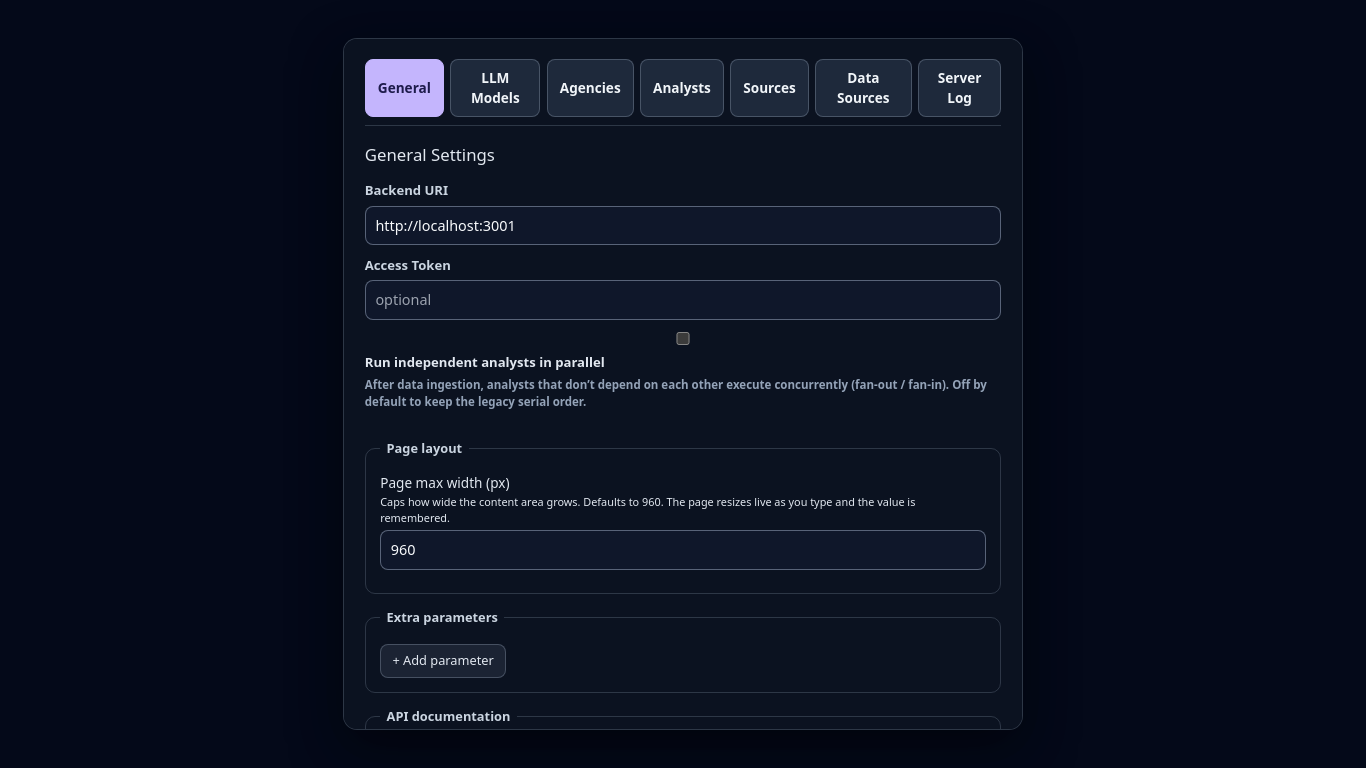
Test case: SettingsDialog › shows a validation error for a non-http baseUri
Step 1. Type "ftp://nope" into the field labelled "Backend URI" → (683, 225), box x1=365 y1=206 x2=1001 y2=245
(page scrolled)
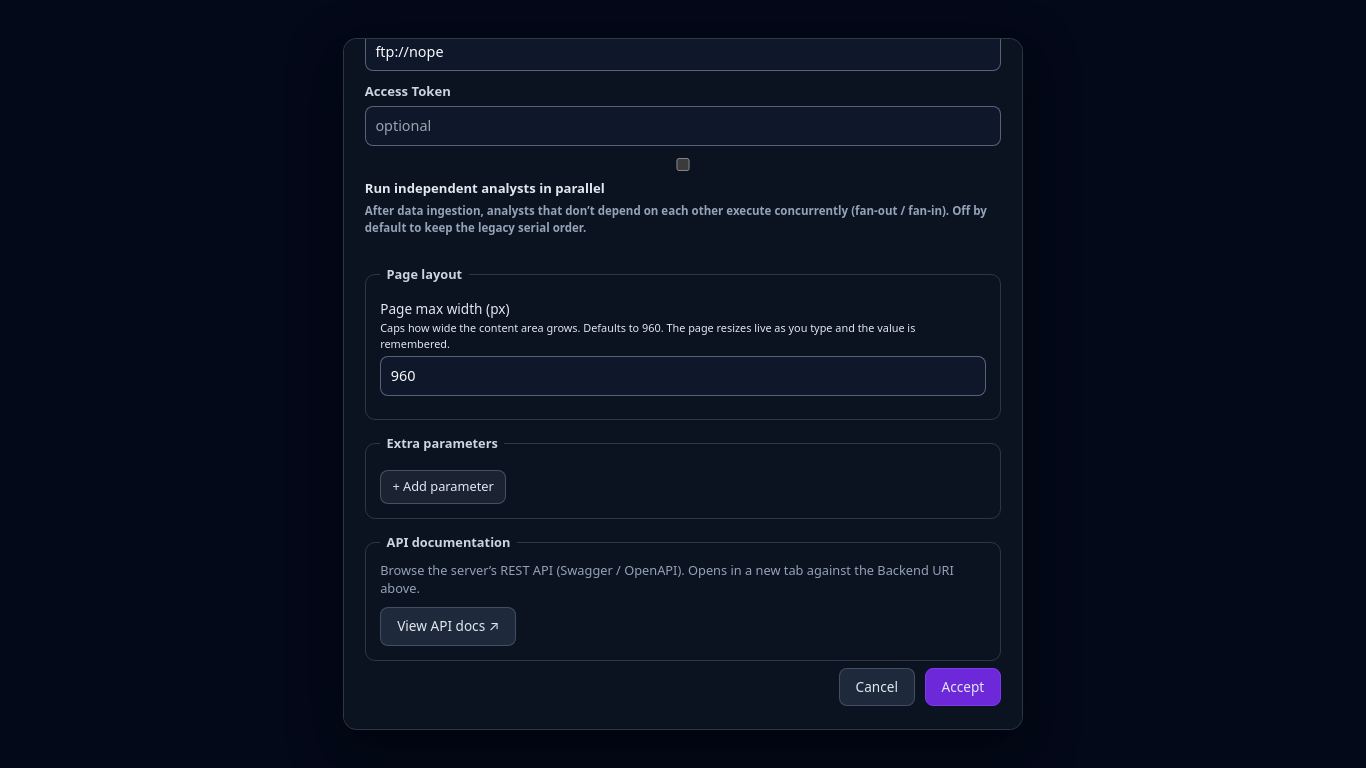
Step 2. Click the button "Accept" → (963, 687), box x1=924 y1=668 x2=1001 y2=706
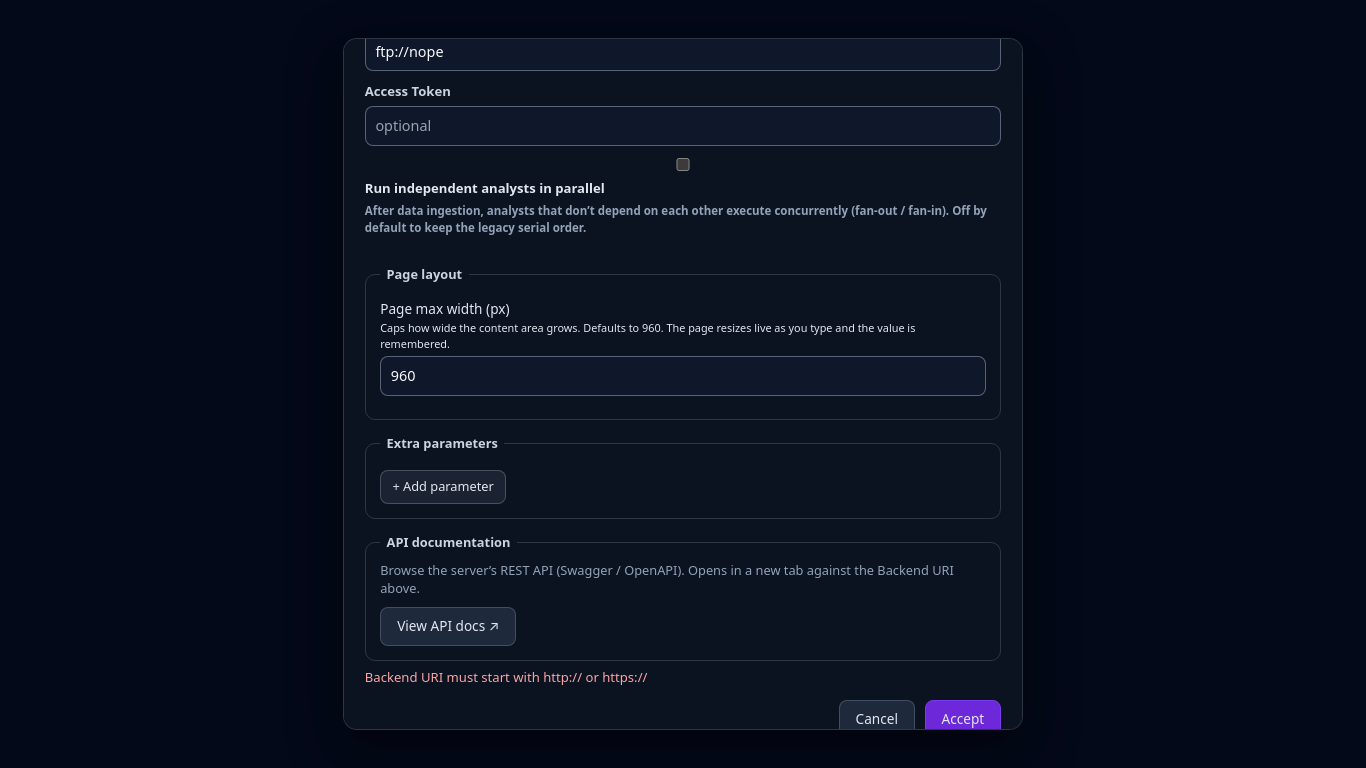
expect the message shows "http": met, box x1=365 y1=668 x2=647 y2=686
